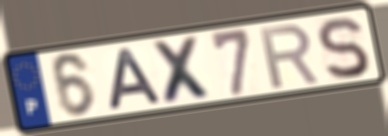6: (51, 50, 98, 119)
7: (208, 27, 254, 99)
A: (105, 45, 166, 112)
R: (257, 22, 322, 92)
S: (314, 15, 372, 83)
X: (148, 34, 218, 107)
